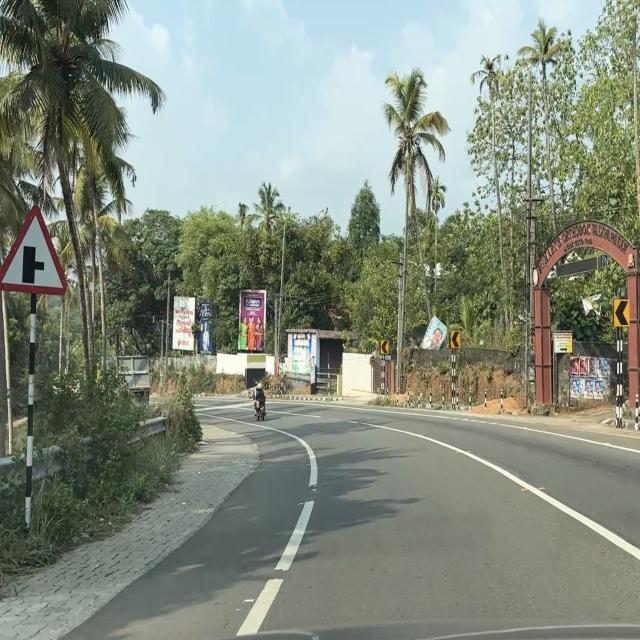SIDE_ROAD_RIGHT: (0, 203, 69, 298)
TURN_LEFT: (613, 299, 630, 328), (451, 330, 461, 348), (380, 340, 389, 355)
